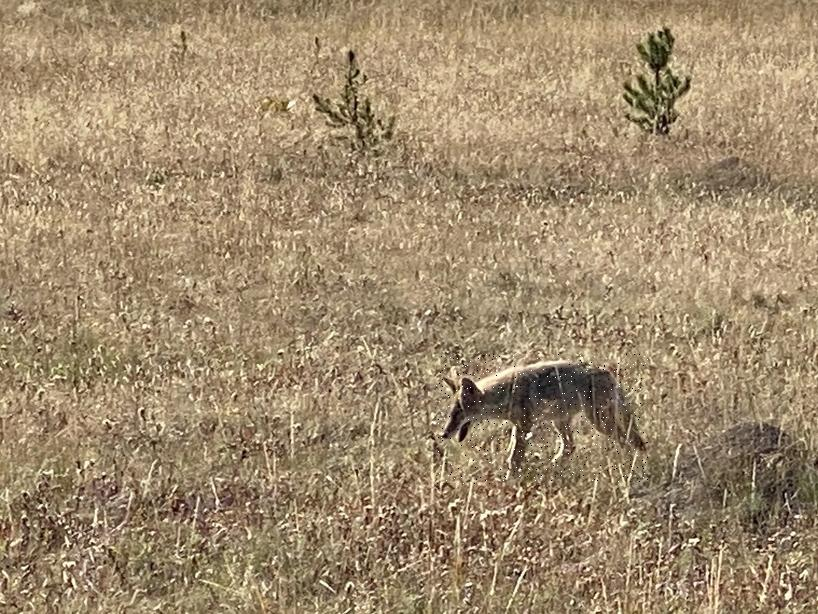Coyote: (436, 355, 648, 485)
